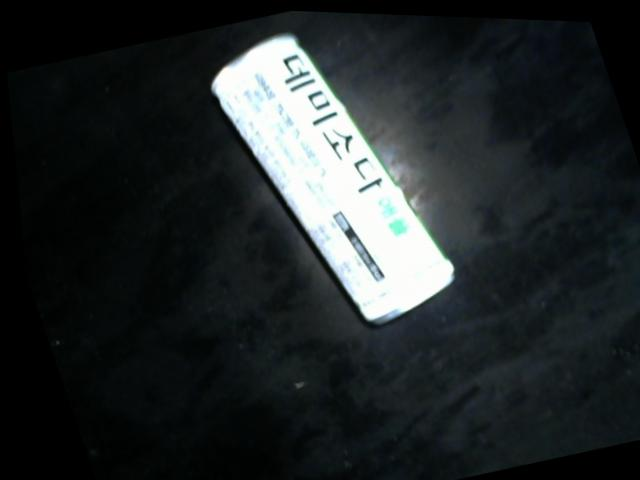can: (206, 30, 452, 326)
